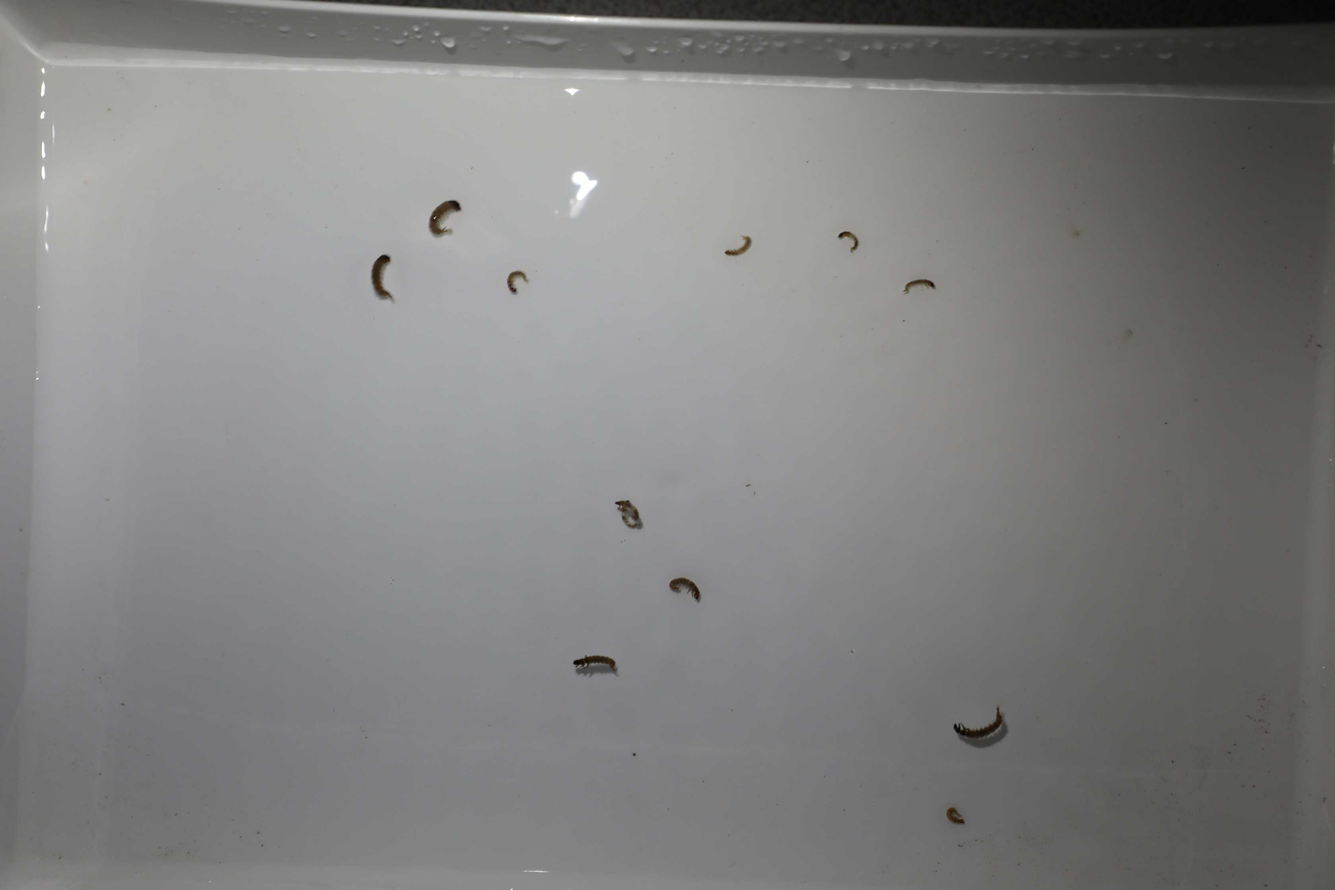Cadisfly: (948, 707, 1012, 751), (665, 573, 707, 613), (367, 249, 396, 302), (573, 649, 619, 680), (424, 198, 461, 236), (611, 492, 642, 530), (900, 272, 940, 296), (722, 234, 753, 263), (944, 802, 968, 834), (505, 266, 527, 297), (837, 228, 859, 253)
